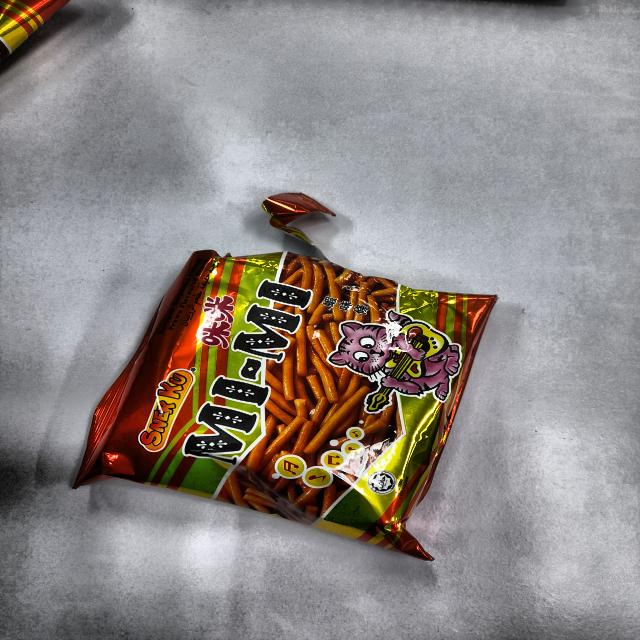Plastic: (105, 190, 478, 556)
